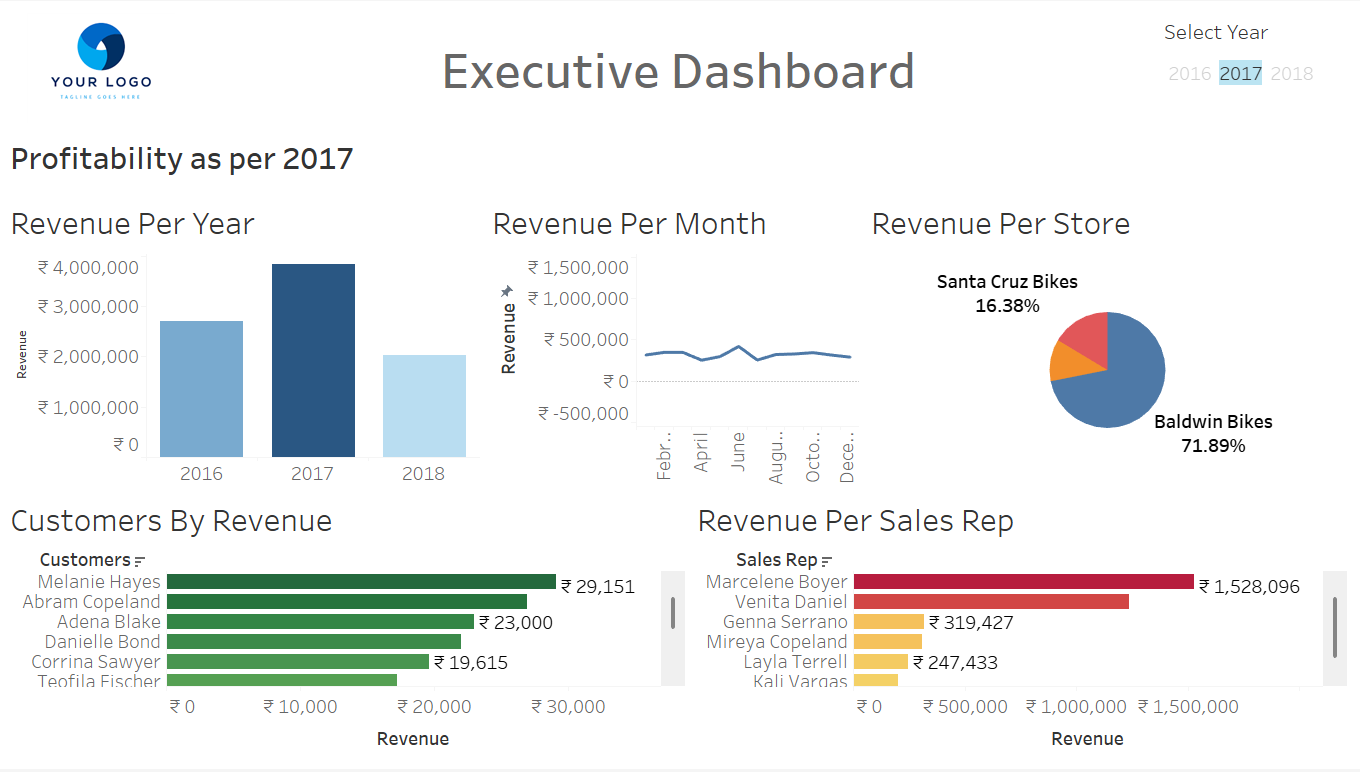

The dashboard page shown, as its layout file describes it:
{"tool":"tableau","page":{"name":"Dashboard 1","canvas":[1366,768],"ordinal":0},"visuals":[{"type":"image","param":"C:/Users/Lenovo/Downloads/images.png","box":[8,8,199,119]},{"type":"text","box":[207,8,955,119]},{"type":"worksheet","title":"Select Year ","mark":"Automatic","box":[1162,8,196,119]},{"type":"worksheet","title":"Profitability as per Year","mark":"Automatic","box":[8,127,1350,44]},{"type":"worksheet","title":"Revenue Per Year","mark":"Bar","rows":["revenue"],"cols":["order_date"],"box":[8,171,482,308]},{"type":"worksheet","title":"Revenue Per Month","mark":"Automatic","rows":["revenue"],"cols":["order_date"],"box":[490,171,379,308]},{"type":"worksheet","title":"Revenue Per Store","mark":"Pie","box":[869,171,489,308]},{"type":"worksheet","title":"Customers By Revenue","mark":"Automatic","rows":["customers"],"cols":["revenue"],"box":[8,479,687.5,281]},{"type":"worksheet","title":"Revenue Per Sales Rep","mark":"Automatic","rows":["sales_rep"],"cols":["revenue"],"box":[695.5,479,662.5,281]}]}

Visuals, with their boxes in screenshot pixels (x1, y1, x2, y2), scaled from the page's 1366x768 canvas onto the 1360x772 screenshot:
image: [left=8, top=8, right=206, bottom=128]
text: [left=206, top=8, right=1157, bottom=128]
"Select Year " worksheet: [left=1157, top=8, right=1352, bottom=128]
"Profitability as per Year" worksheet: [left=8, top=128, right=1352, bottom=172]
"Revenue Per Year" worksheet (Bar marks): [left=8, top=172, right=488, bottom=481]
"Revenue Per Month" worksheet: [left=488, top=172, right=865, bottom=481]
"Revenue Per Store" worksheet (Pie marks): [left=865, top=172, right=1352, bottom=481]
"Customers By Revenue" worksheet: [left=8, top=481, right=692, bottom=764]
"Revenue Per Sales Rep" worksheet: [left=692, top=481, right=1352, bottom=764]
